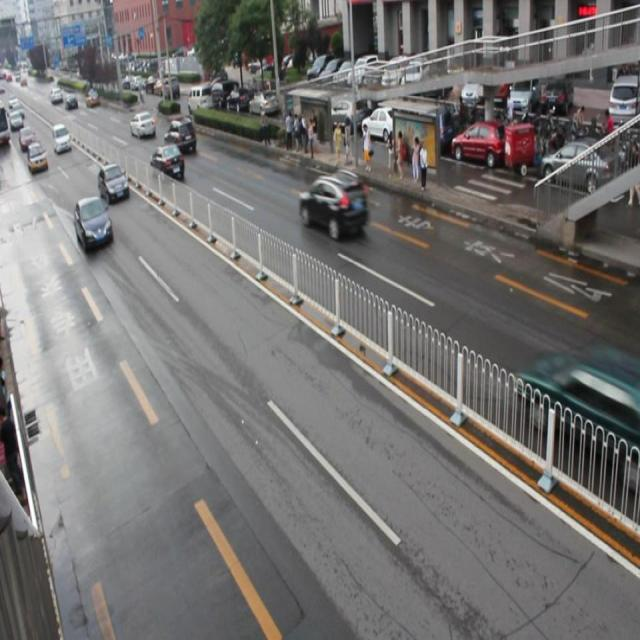car: (514, 345, 640, 469), (299, 171, 367, 238), (74, 196, 113, 251), (163, 115, 197, 154), (151, 144, 185, 180), (99, 162, 130, 201), (130, 112, 155, 137)
